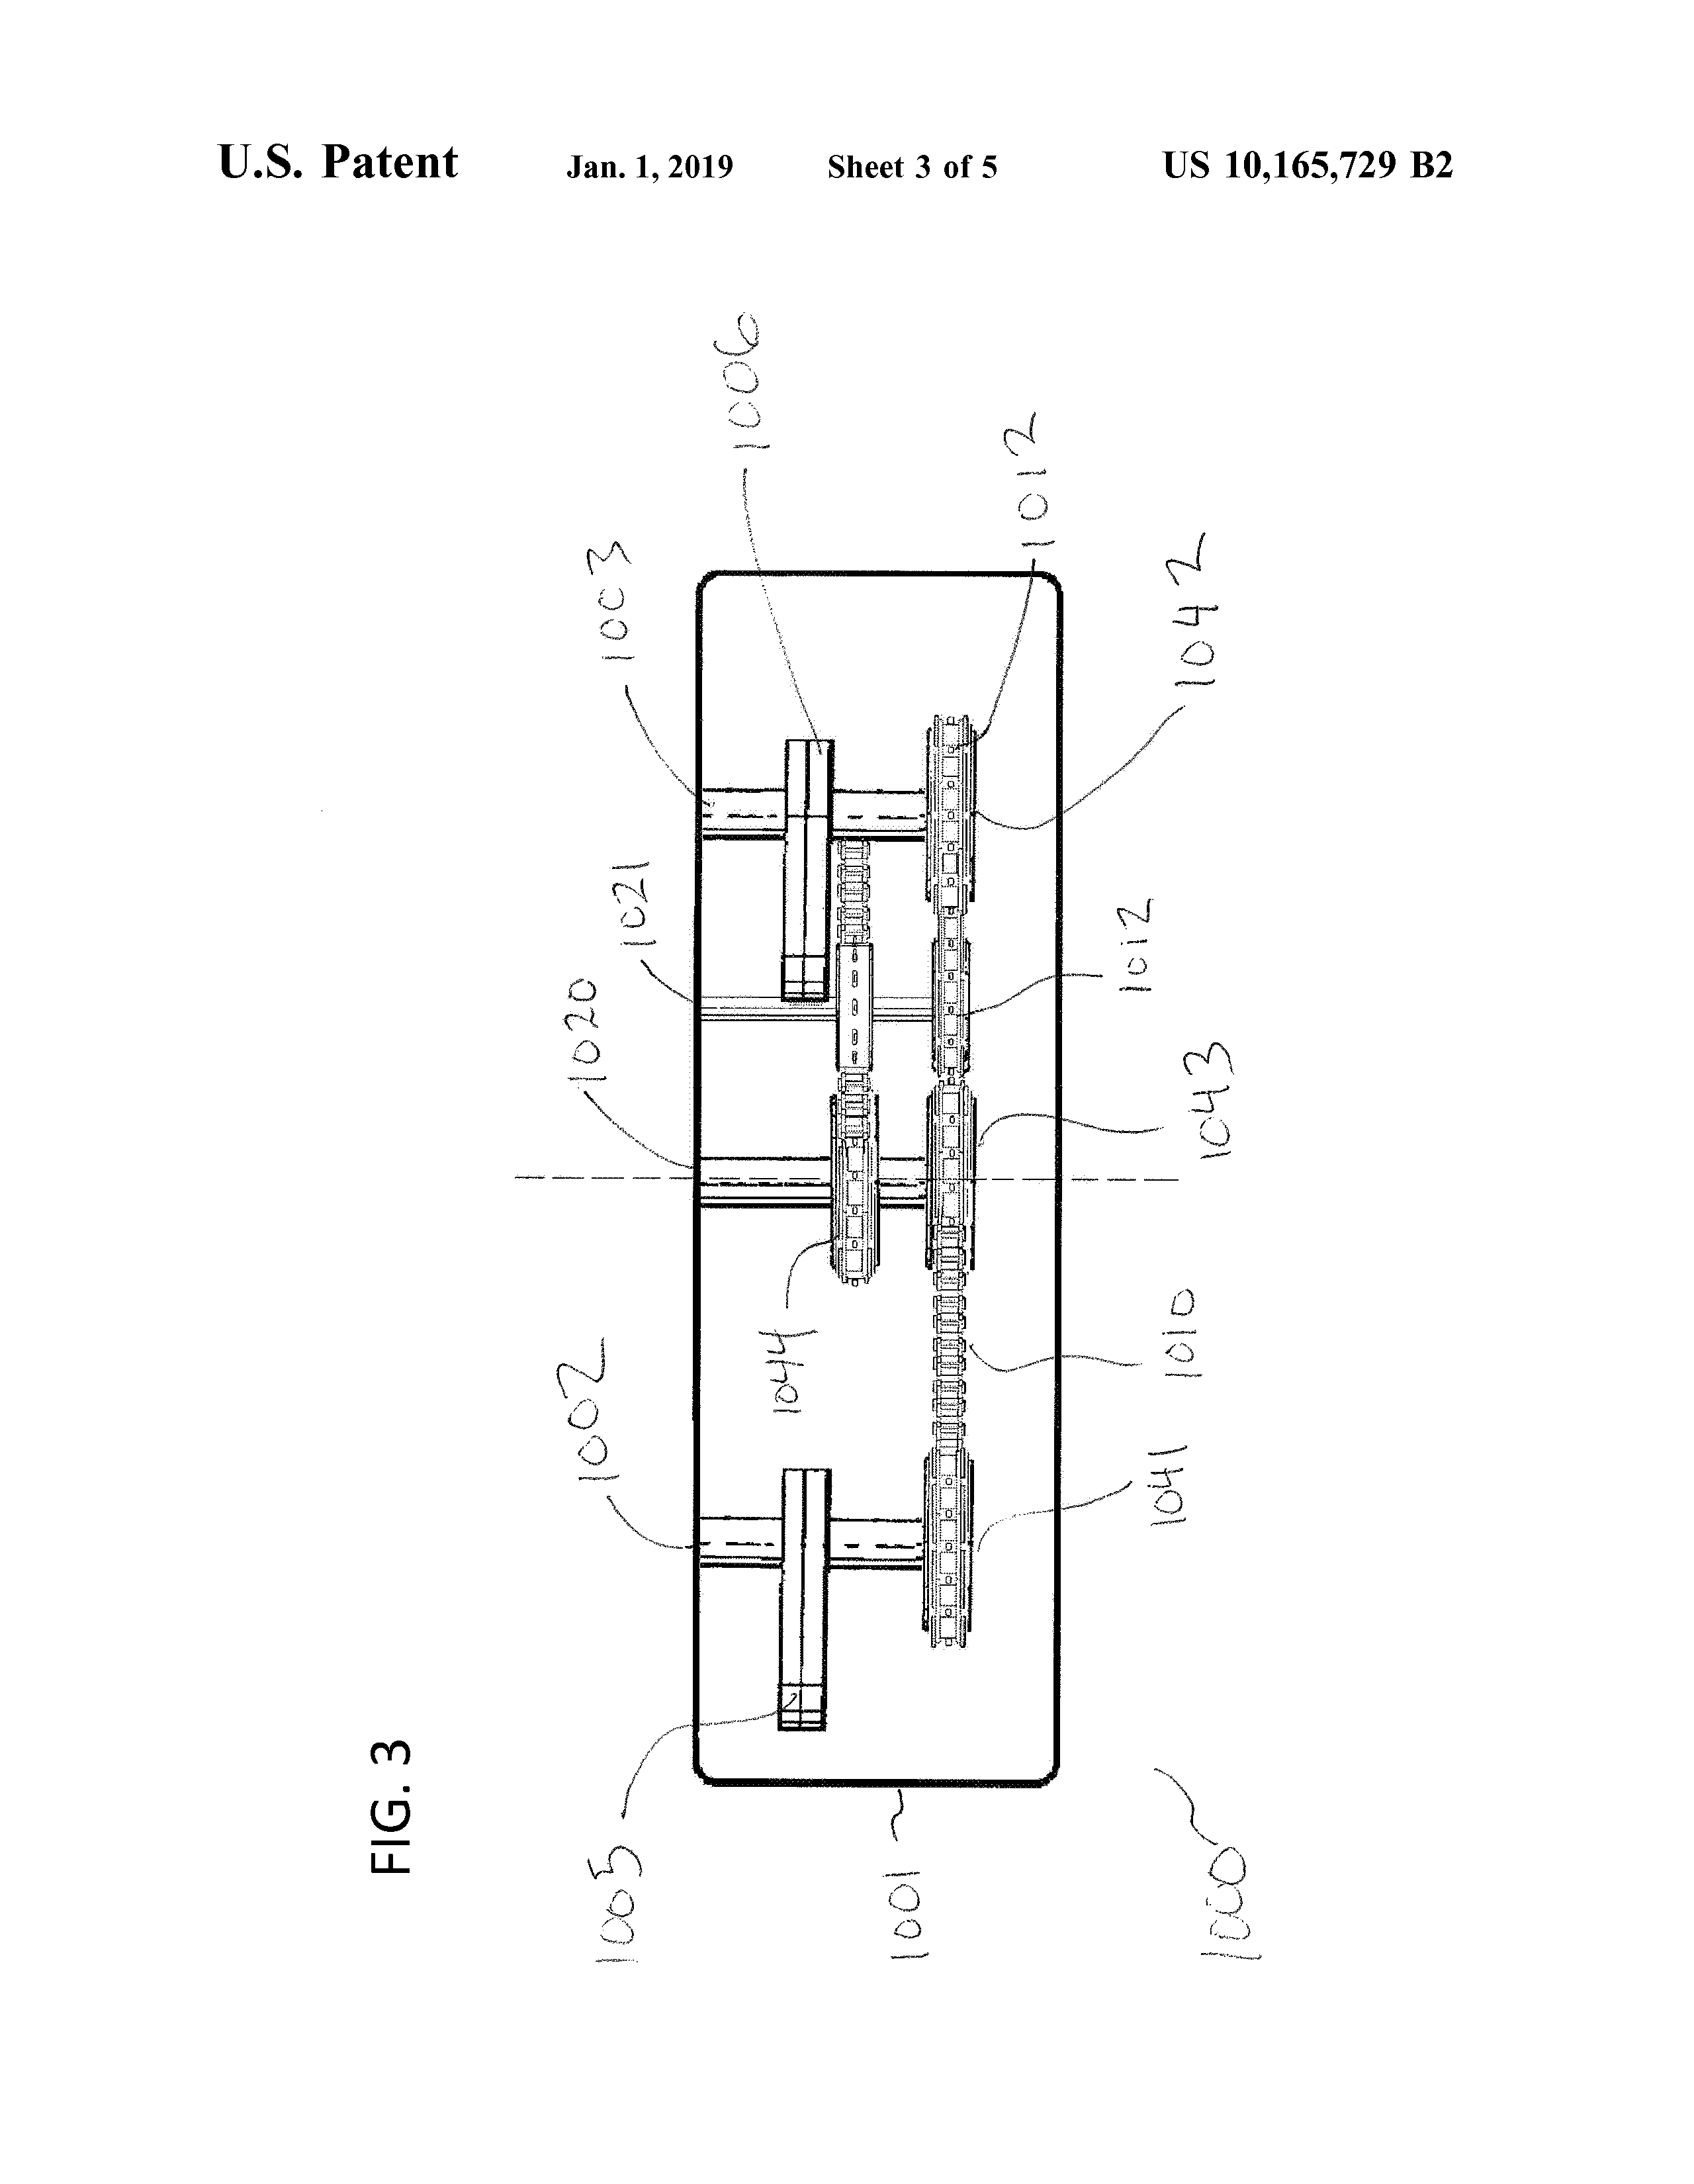patent image: (333, 293, 1329, 2011)
